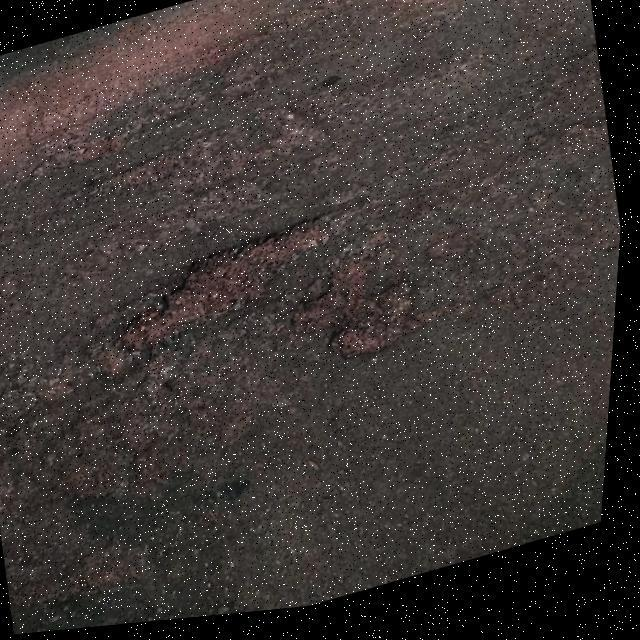pothole: (95, 184, 395, 373), (322, 278, 438, 378)
